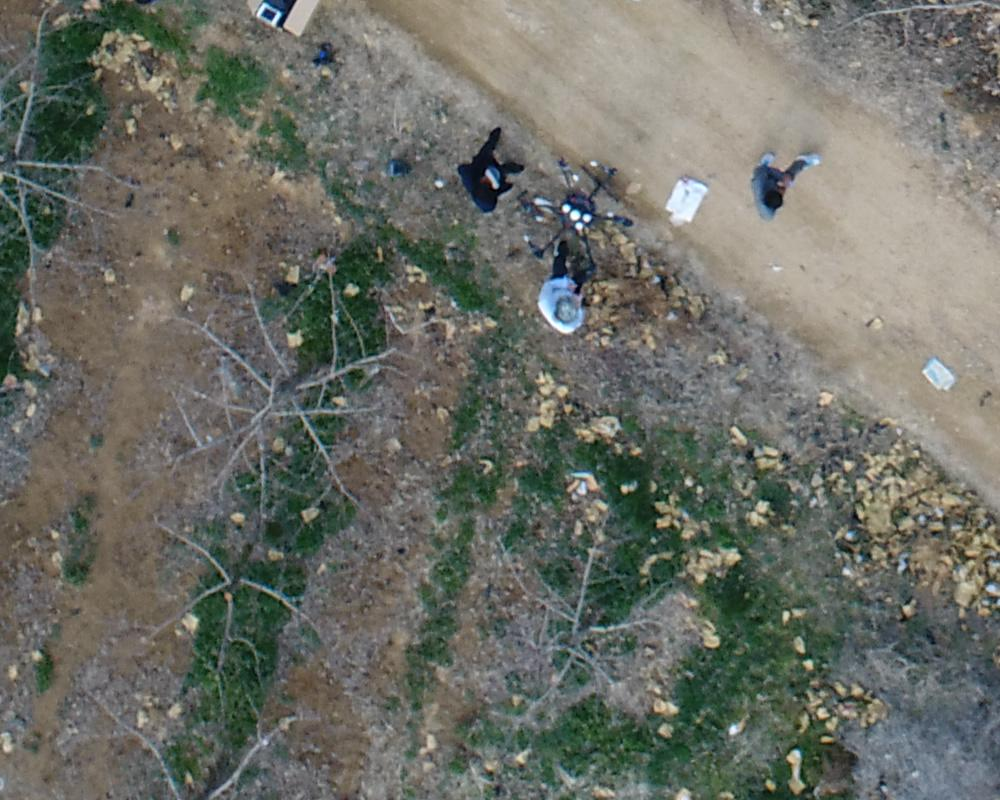apple: (144, 269, 404, 517), (102, 504, 336, 688), (10, 10, 144, 290), (474, 521, 685, 691), (70, 691, 311, 790)
